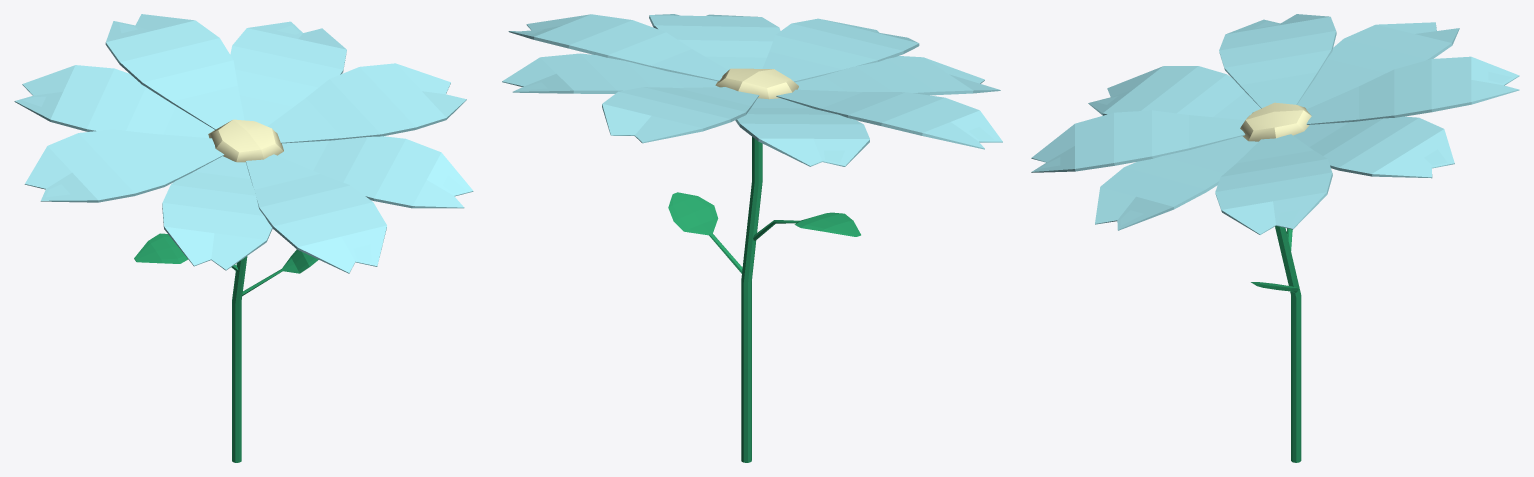
File: Planta_2.fbx
3 views of the same model, side by side, from view 1: azimuth 30°, elevation 25°; view 2: azimuth 150°, elevation 25°; view 3: azimuth 270°, elevation 25° (orthographic). The views are drawn at different scales.
Parts seen in each view (by area): view 1: pCube6, pCube3, pCube7, pCube5, pCube8, pCube11, pCube10, pCube9, pCube4, pCylinder6, pCylinder9, pCylinder8; view 2: pCube6, pCube3, pCube5, pCube7, pCube10, pCube9, pCube11, pCube8, pCylinder6, pCylinder8, pCube4, pCylinder9; view 3: pCube7, pCube5, pCube3, pCube6, pCube8, pCube9, pCube10, pCube11, pCylinder6, pCube4.
Boxes of the visible parts, x1,y1,x2,y2 form: pCube6: (24,129,224,202); pCube3: (267,63,466,143); pCube7: (246,154,386,273); pCube5: (105,14,244,129); pCube8: (277,136,473,208); pCube11: (162,156,272,270); pCube10: (14,65,214,137); pCube9: (230,21,346,126); pCube4: (208,119,283,162); pCylinder6: (232,256,247,462); pCylinder9: (134,233,238,271); pCylinder8: (242,249,318,295); pCube6: (776,89,1002,149); pCube3: (508,14,728,81); pCube5: (602,87,758,143); pCube7: (762,18,919,82); pCube10: (735,98,869,166); pCube9: (502,53,718,93); pCube11: (795,56,1000,95); pCube8: (649,14,780,69); pCylinder6: (741,137,762,462); pCylinder8: (668,192,742,273); pCube4: (715,68,798,99); pCylinder9: (753,212,860,240); pCube7: (1031,110,1245,172); pCube5: (1306,56,1519,124); pCube3: (1215,134,1332,234); pCube6: (1219,14,1336,108); pCube8: (1095,136,1258,230); pCube9: (1293,116,1454,178); pCube10: (1297,22,1459,108); pCube11: (1088,66,1260,119); pCylinder6: (1275,226,1301,462); pCube4: (1240,102,1311,141).
Size of the model in its own units: 3.58 by 2.97 by 3.45.
